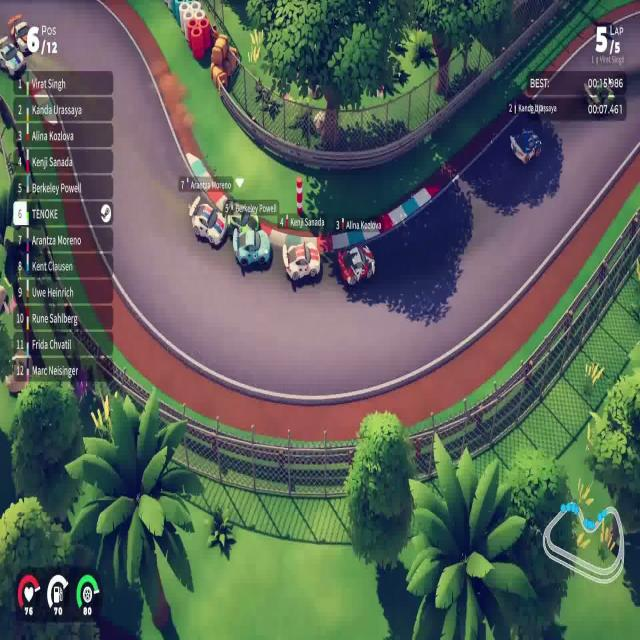car: (188, 193, 227, 248), (232, 220, 272, 271), (336, 241, 376, 289), (282, 235, 321, 284), (509, 127, 542, 166)
